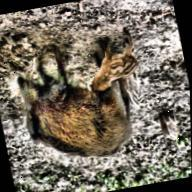boar: (10, 34, 141, 171), (82, 27, 142, 93)
